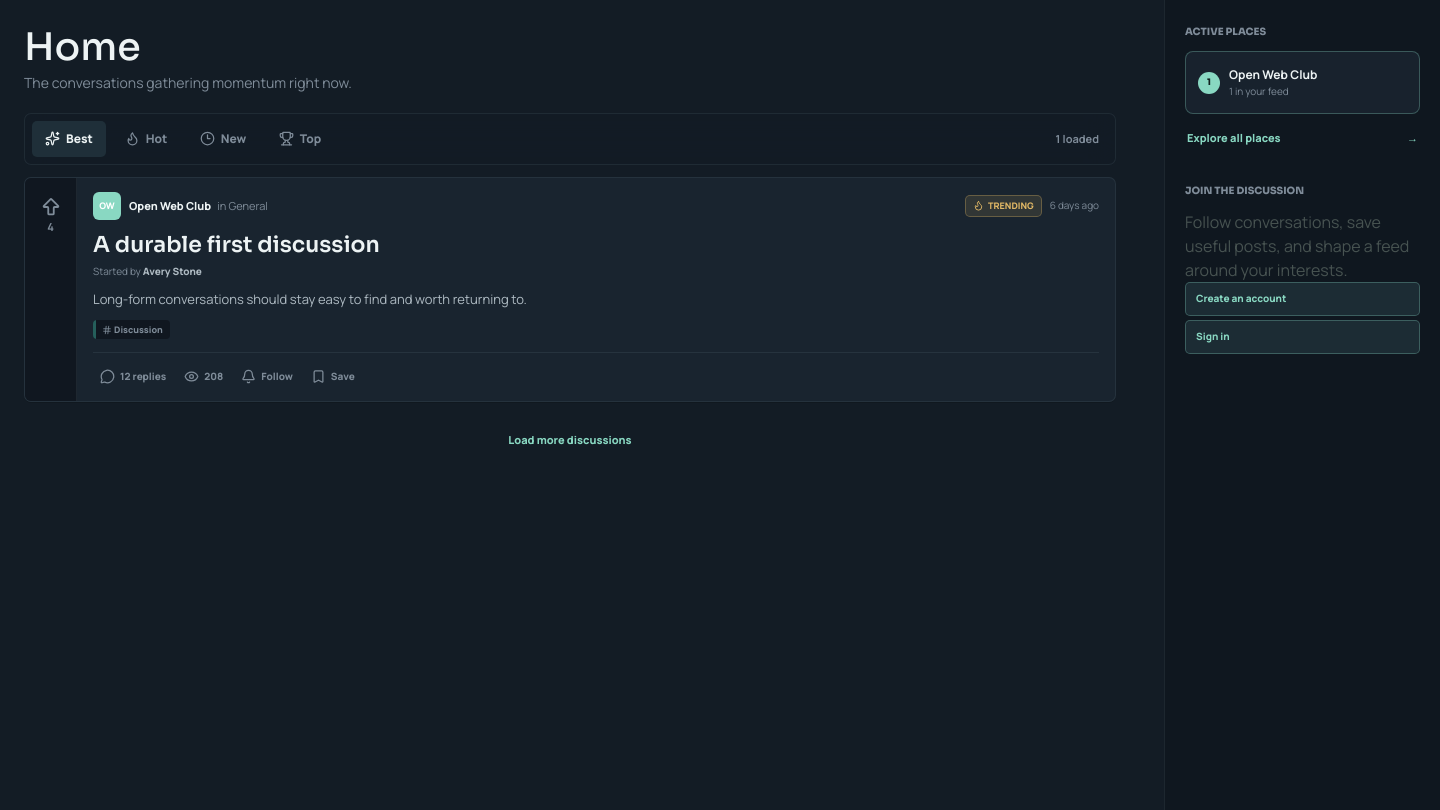
HomeFeed › appends the next cursor page from the accessible load control
Expected: the heading "A durable first discussion" is shown, [93,231,380,258]
Step 1. Click the button "Load more discussions" → (570,440), box [496,422,644,458]
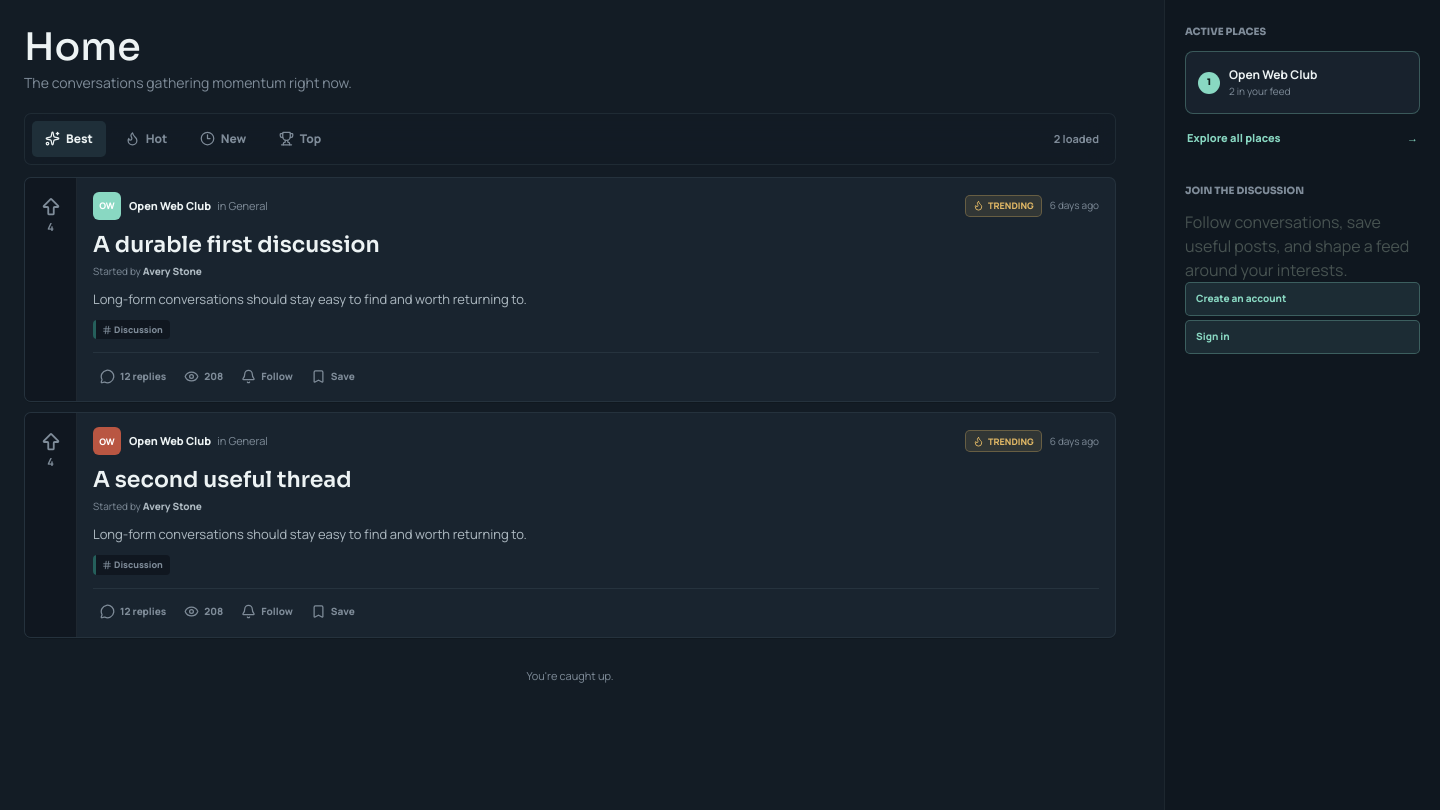
Result: the heading "A second useful thread" is shown at [93,466,352,493]
